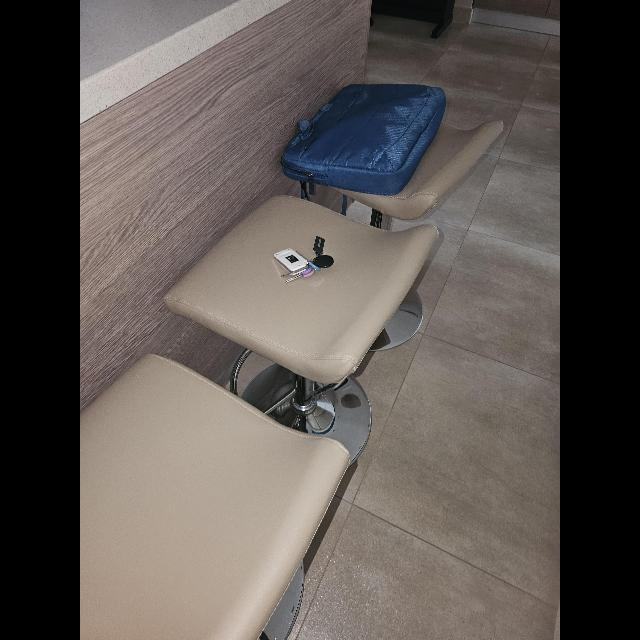Keys: (276, 236, 334, 282)
